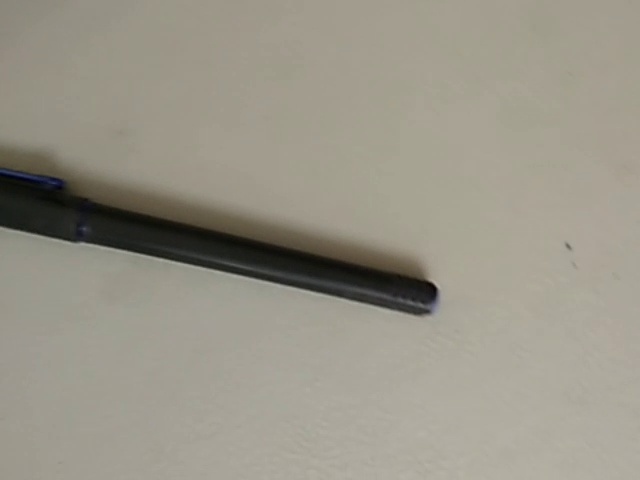Pen: (13, 140, 495, 342)
